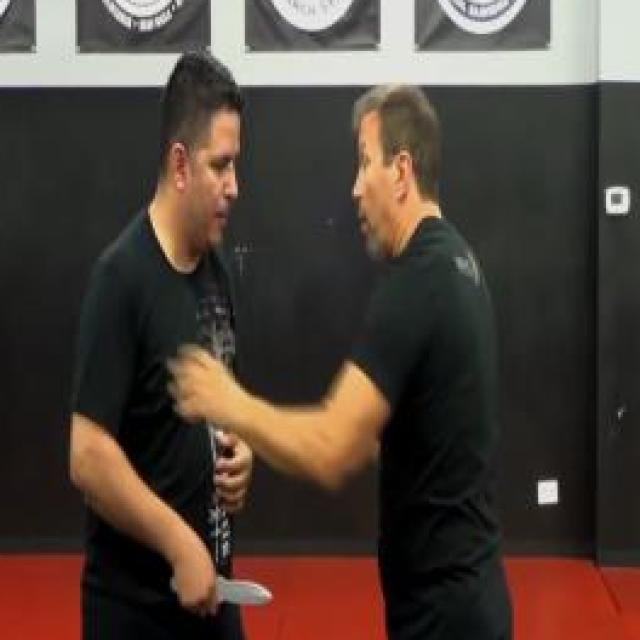knife: (165, 550, 282, 617)
